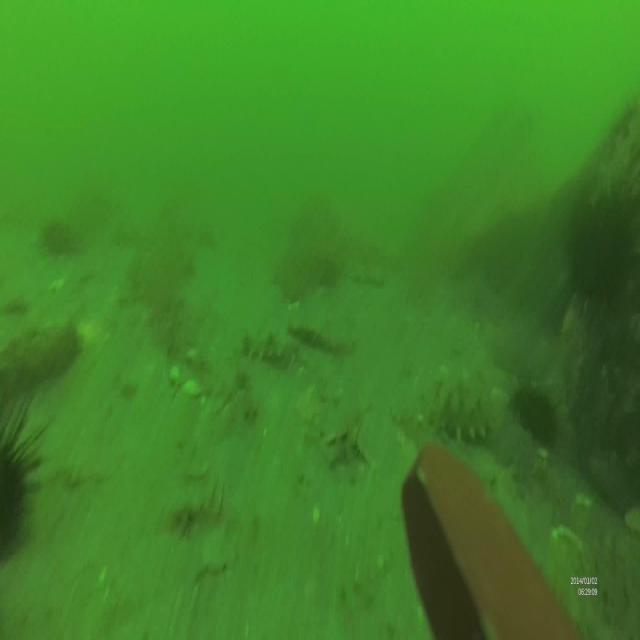echinus: (568, 195, 638, 318), (1, 393, 50, 564), (511, 378, 555, 451)
holothurian: (425, 383, 497, 443), (285, 311, 360, 362), (241, 325, 294, 373)
